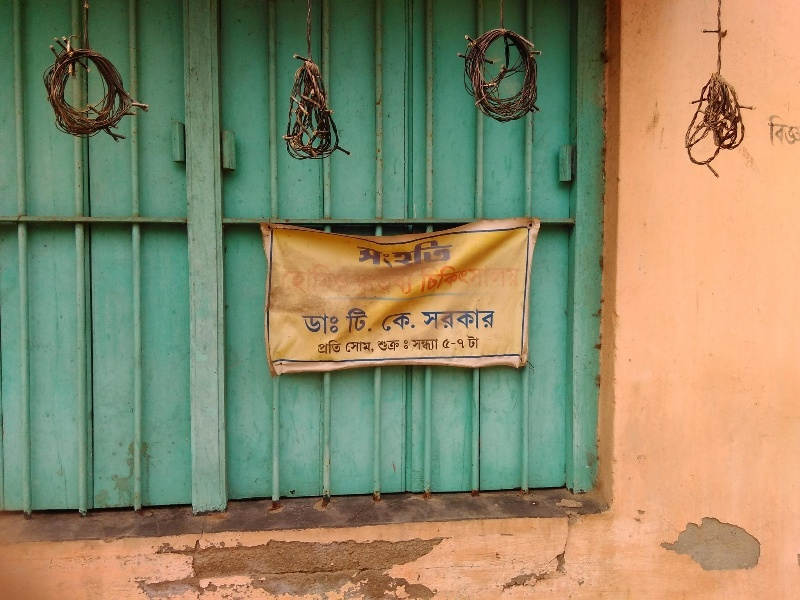text: (289, 264, 304, 298), (305, 264, 320, 298), (321, 264, 336, 298), (337, 264, 352, 298), (433, 263, 448, 295), (449, 263, 464, 295), (465, 263, 480, 295), (481, 263, 496, 295), (497, 263, 512, 295), (369, 240, 384, 271), (385, 240, 400, 271), (401, 240, 416, 271), (417, 240, 432, 271), (433, 240, 448, 271), (353, 306, 368, 336), (433, 306, 448, 333), (449, 306, 464, 333), (465, 306, 480, 333), (481, 306, 496, 333), (369, 271, 384, 297), (385, 271, 400, 297), (401, 311, 417, 335), (420, 263, 432, 295), (356, 240, 368, 271), (354, 271, 368, 297), (401, 271, 415, 297), (385, 311, 400, 335), (305, 312, 320, 336), (321, 312, 336, 336), (449, 240, 459, 271), (421, 306, 432, 333), (513, 263, 521, 295), (321, 338, 336, 355), (385, 338, 400, 354), (417, 336, 432, 352), (369, 306, 377, 336), (467, 334, 480, 351), (345, 306, 352, 336), (282, 264, 288, 298), (353, 341, 368, 354), (401, 338, 409, 354), (337, 312, 342, 336), (449, 337, 457, 352), (377, 338, 384, 354), (433, 336, 440, 352), (457, 337, 464, 352), (442, 337, 448, 352), (337, 338, 342, 355), (411, 336, 416, 352), (346, 341, 352, 354), (369, 341, 375, 354), (381, 311, 384, 335), (318, 338, 320, 355), (465, 337, 467, 352), (303, 312, 304, 336)
